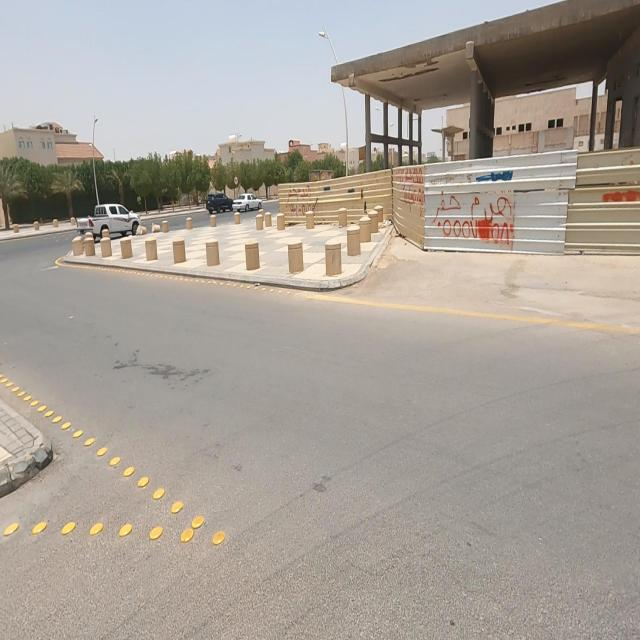Graffiti: (432, 190, 515, 249), (397, 168, 426, 208), (604, 189, 640, 210), (287, 185, 314, 213), (475, 168, 515, 183)
